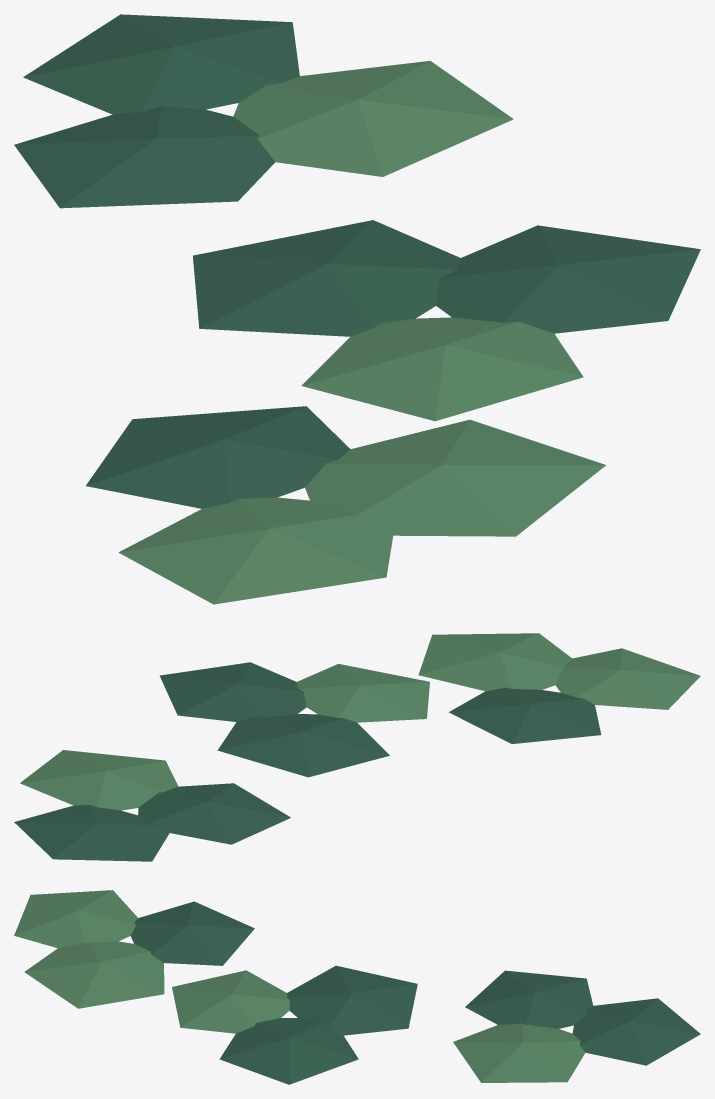
The model's file is flat.clover.a_low.glb.
The picture shows the model from 3 angles, top to bottom: view 1: azimuth 30°, elevation 25°; view 2: azimuth 150°, elevation 25°; view 3: azimuth 270°, elevation 25°; orthographic projection. The views are drawn at different scales.
Bounding box in the file's own units: 0.4566 × 0.011 × 0.6806.
